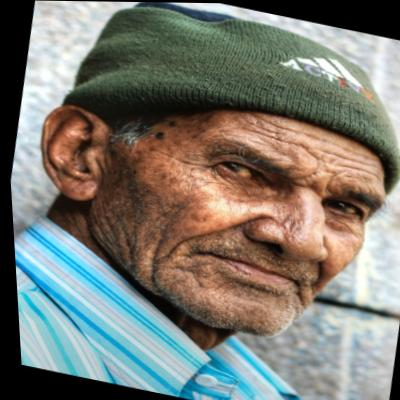netural: (113, 93, 393, 360)
